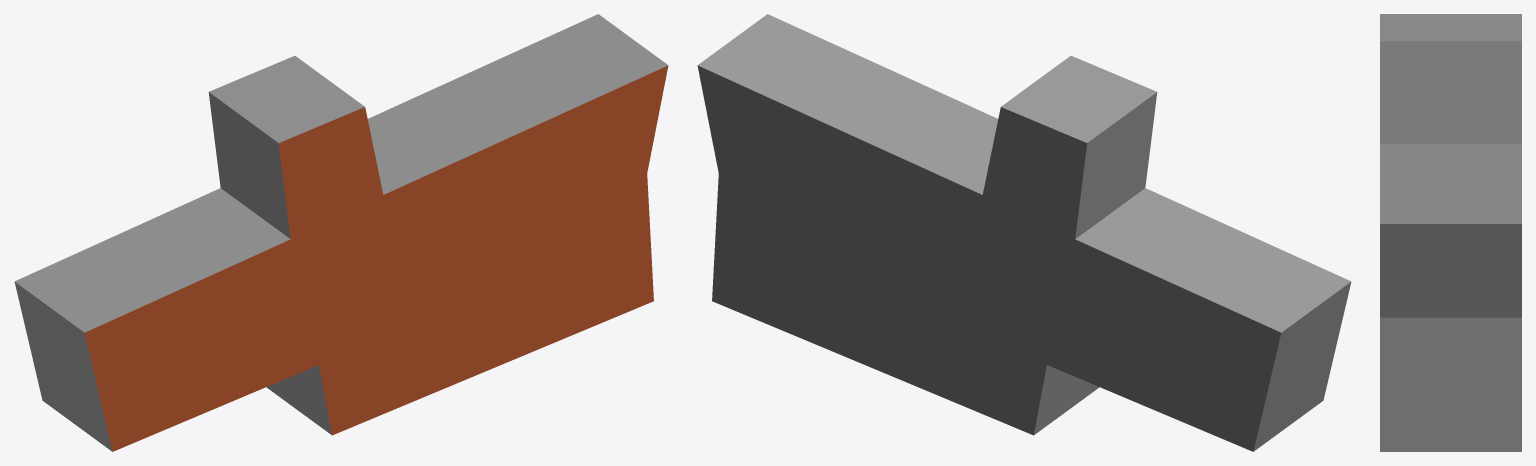
The model's file is construction_3326_assumed_A_Casa_h6m.obj.
3 renders of one model, left to right at view 1: azimuth 30°, elevation 25°; view 2: azimuth 150°, elevation 25°; view 3: azimuth 270°, elevation 25°, orthographic.
Visible parts, largest first — view 1: construction_3326_assumed_A_Casa; view 2: construction_3326_assumed_A_Casa; view 3: construction_3326_assumed_A_Casa.
Part boxes in pixels (left/top/right/bottom): construction_3326_assumed_A_Casa: left=14, top=14, right=668, bottom=451; construction_3326_assumed_A_Casa: left=697, top=14, right=1351, bottom=451; construction_3326_assumed_A_Casa: left=1380, top=14, right=1521, bottom=451.
Size of the model in its own units: 28.85 by 15.13 by 6.
